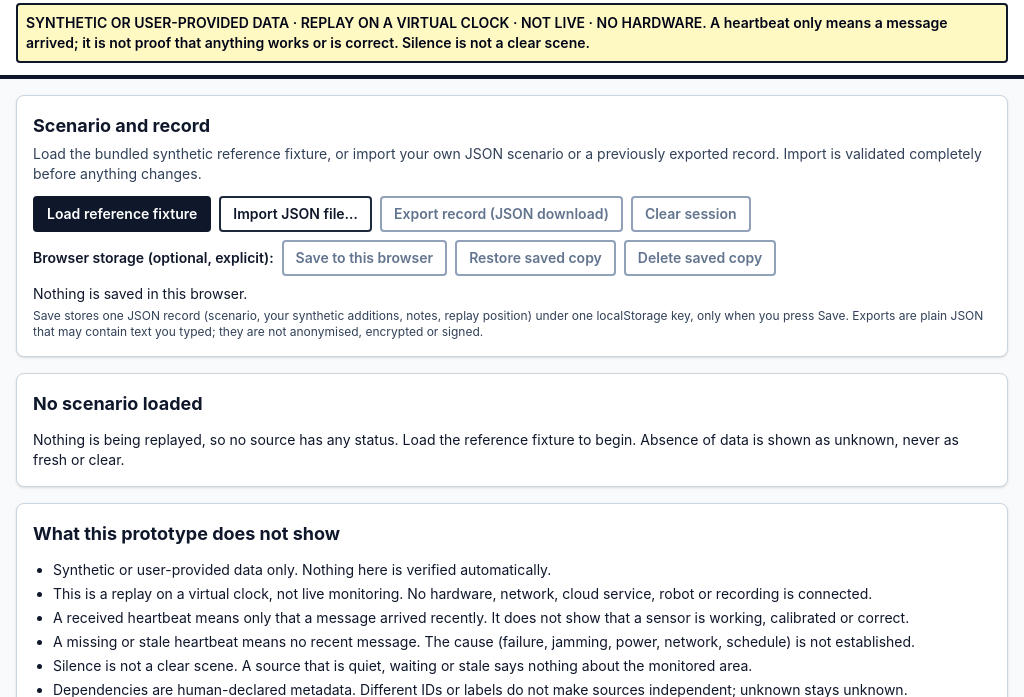
Test: adapter panel drives the real state machine › a simulated failure immediately replaces the fresh card and is labelled not-fresh
The image size is (1024, 697).
Click the button with test id "btn-load-ref" at (122,214), box x1=33 y1=196 x2=211 y2=232
(page scrolled)
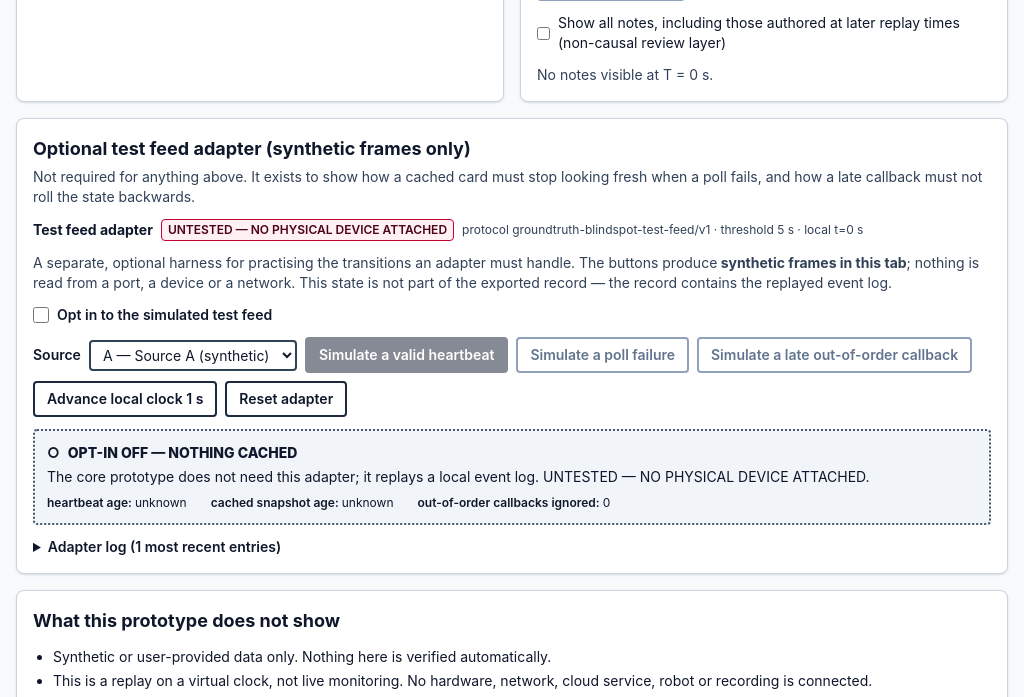
Click the checkbox with test id "adapter-optin" at (41,315), box x1=33 y1=307 x2=49 y2=323
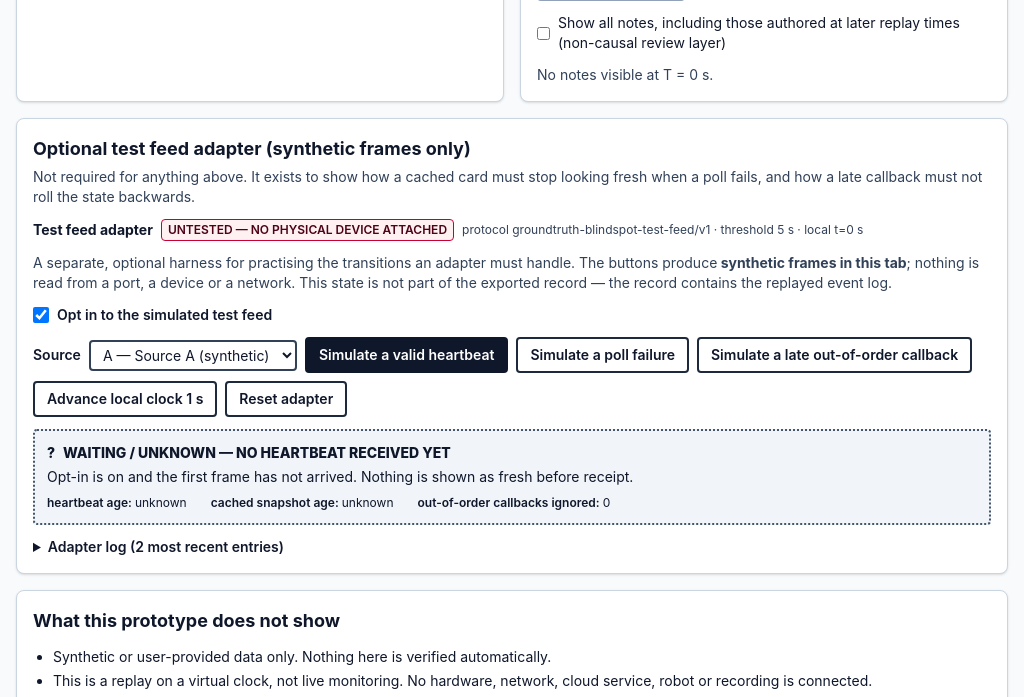
Click the button with test id "adapter-send" at (407,355), box x1=305 y1=337 x2=508 y2=373
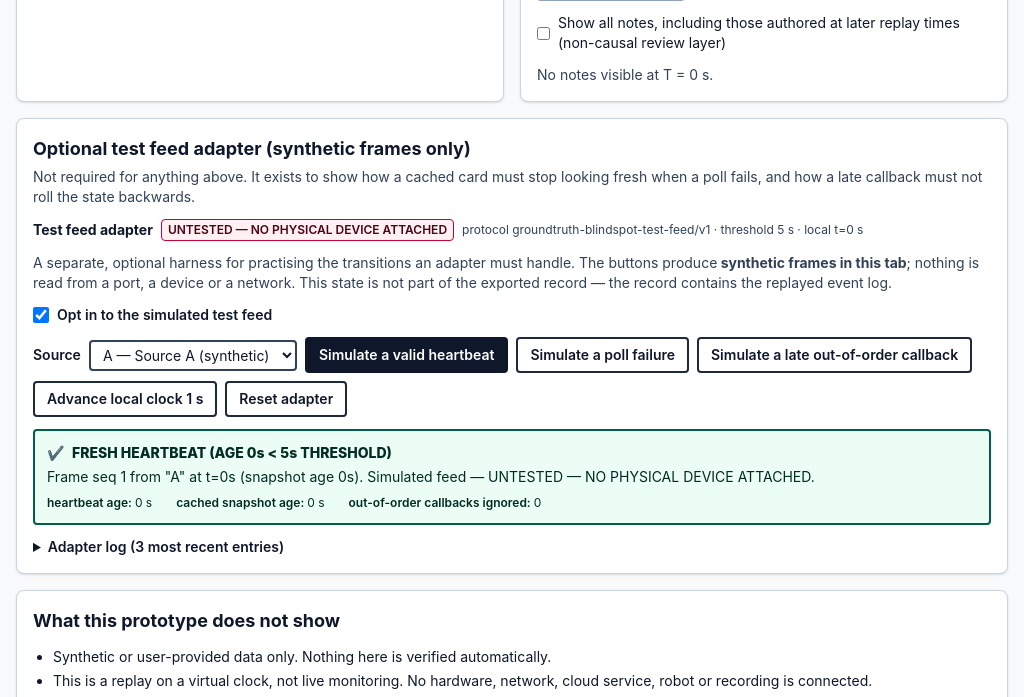
Click the button with test id "adapter-fail" at (603,355), box x1=516 y1=337 x2=689 y2=373
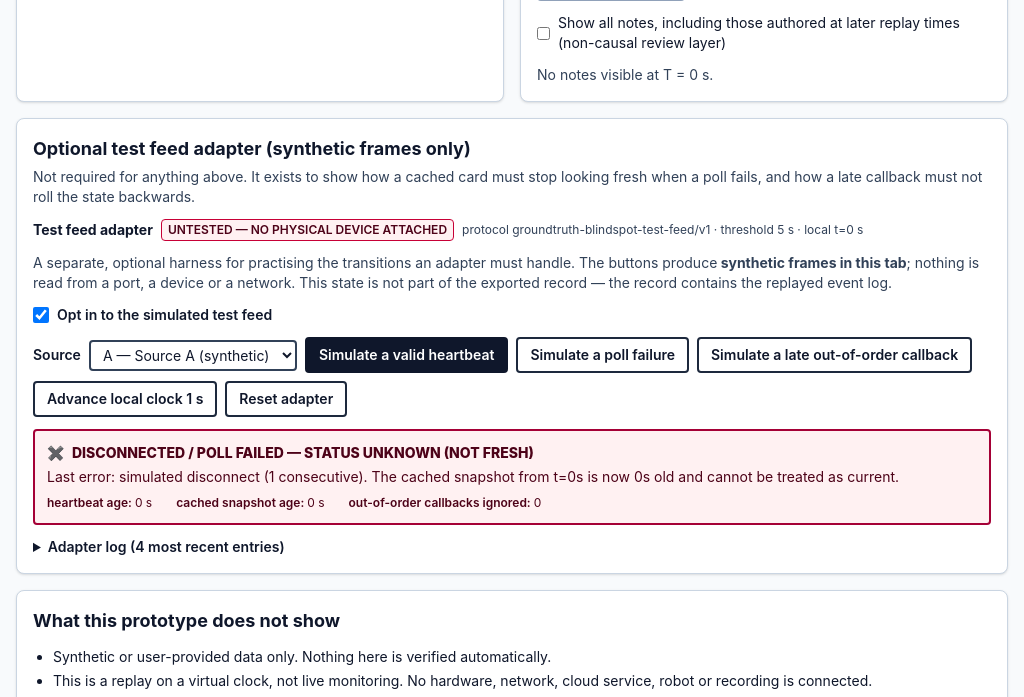
expect the element with test id "adapter-card" shows "NOT FRESH": met, box x1=72 y1=444 x2=534 y2=461
